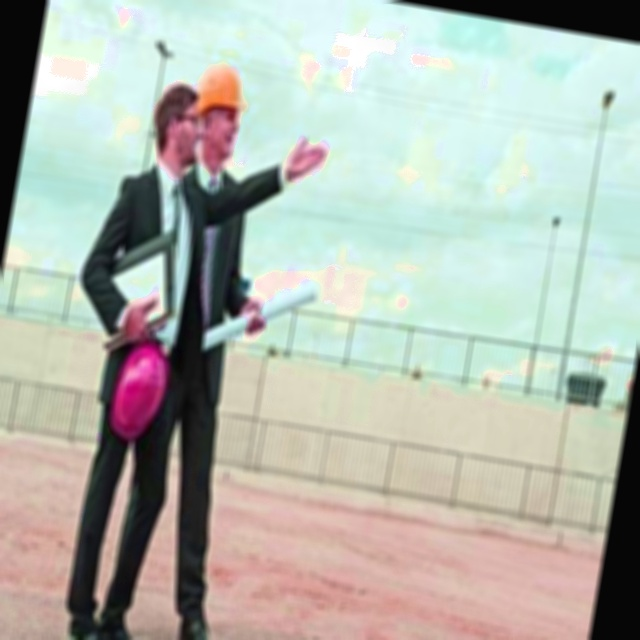Con_Casco: (192, 64, 254, 167)
Sin_Casco_Mascarrilla: (145, 79, 206, 177)
